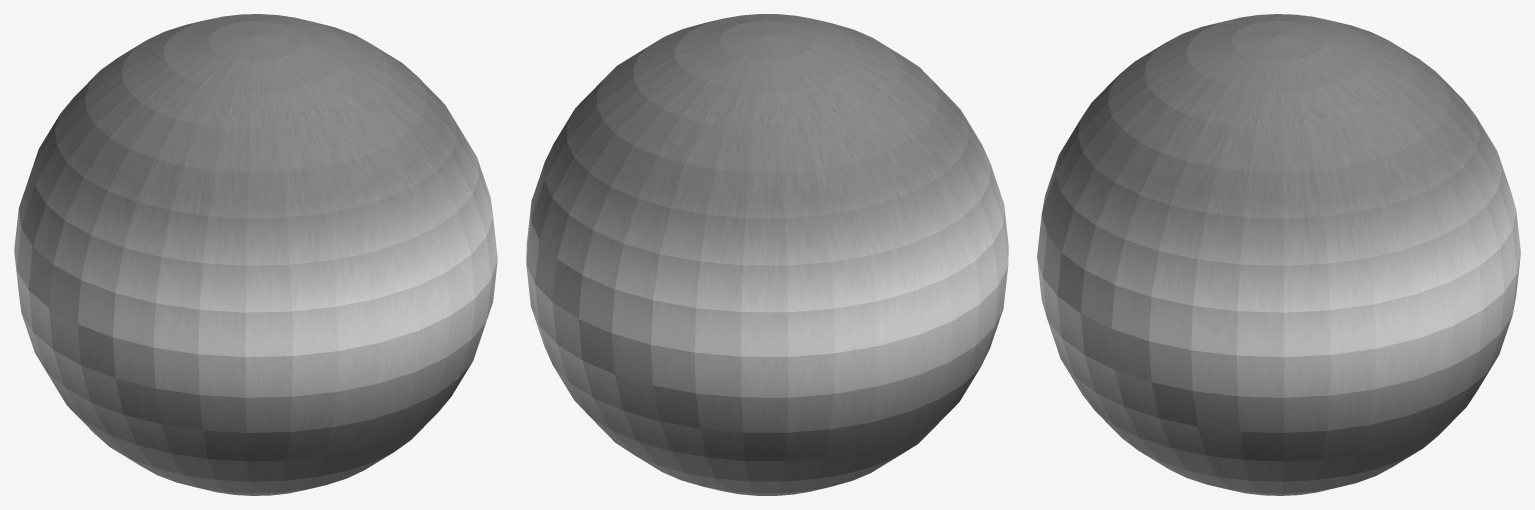
File: ball2.obj
3 renders of one model, left to right at view 1: azimuth 30°, elevation 25°; view 2: azimuth 150°, elevation 25°; view 3: azimuth 270°, elevation 25°, orthographic.
Parts seen in each view (by area): view 1: Sphere; view 2: Sphere; view 3: Sphere.
Part boxes in pixels (x1,y1,x2,y2): Sphere: [14, 14, 497, 495]; Sphere: [526, 14, 1008, 495]; Sphere: [1037, 14, 1520, 495].
Bounding box in the file's own units: 2 × 2 × 2.
Materials: 1 (1 with a texture image).
